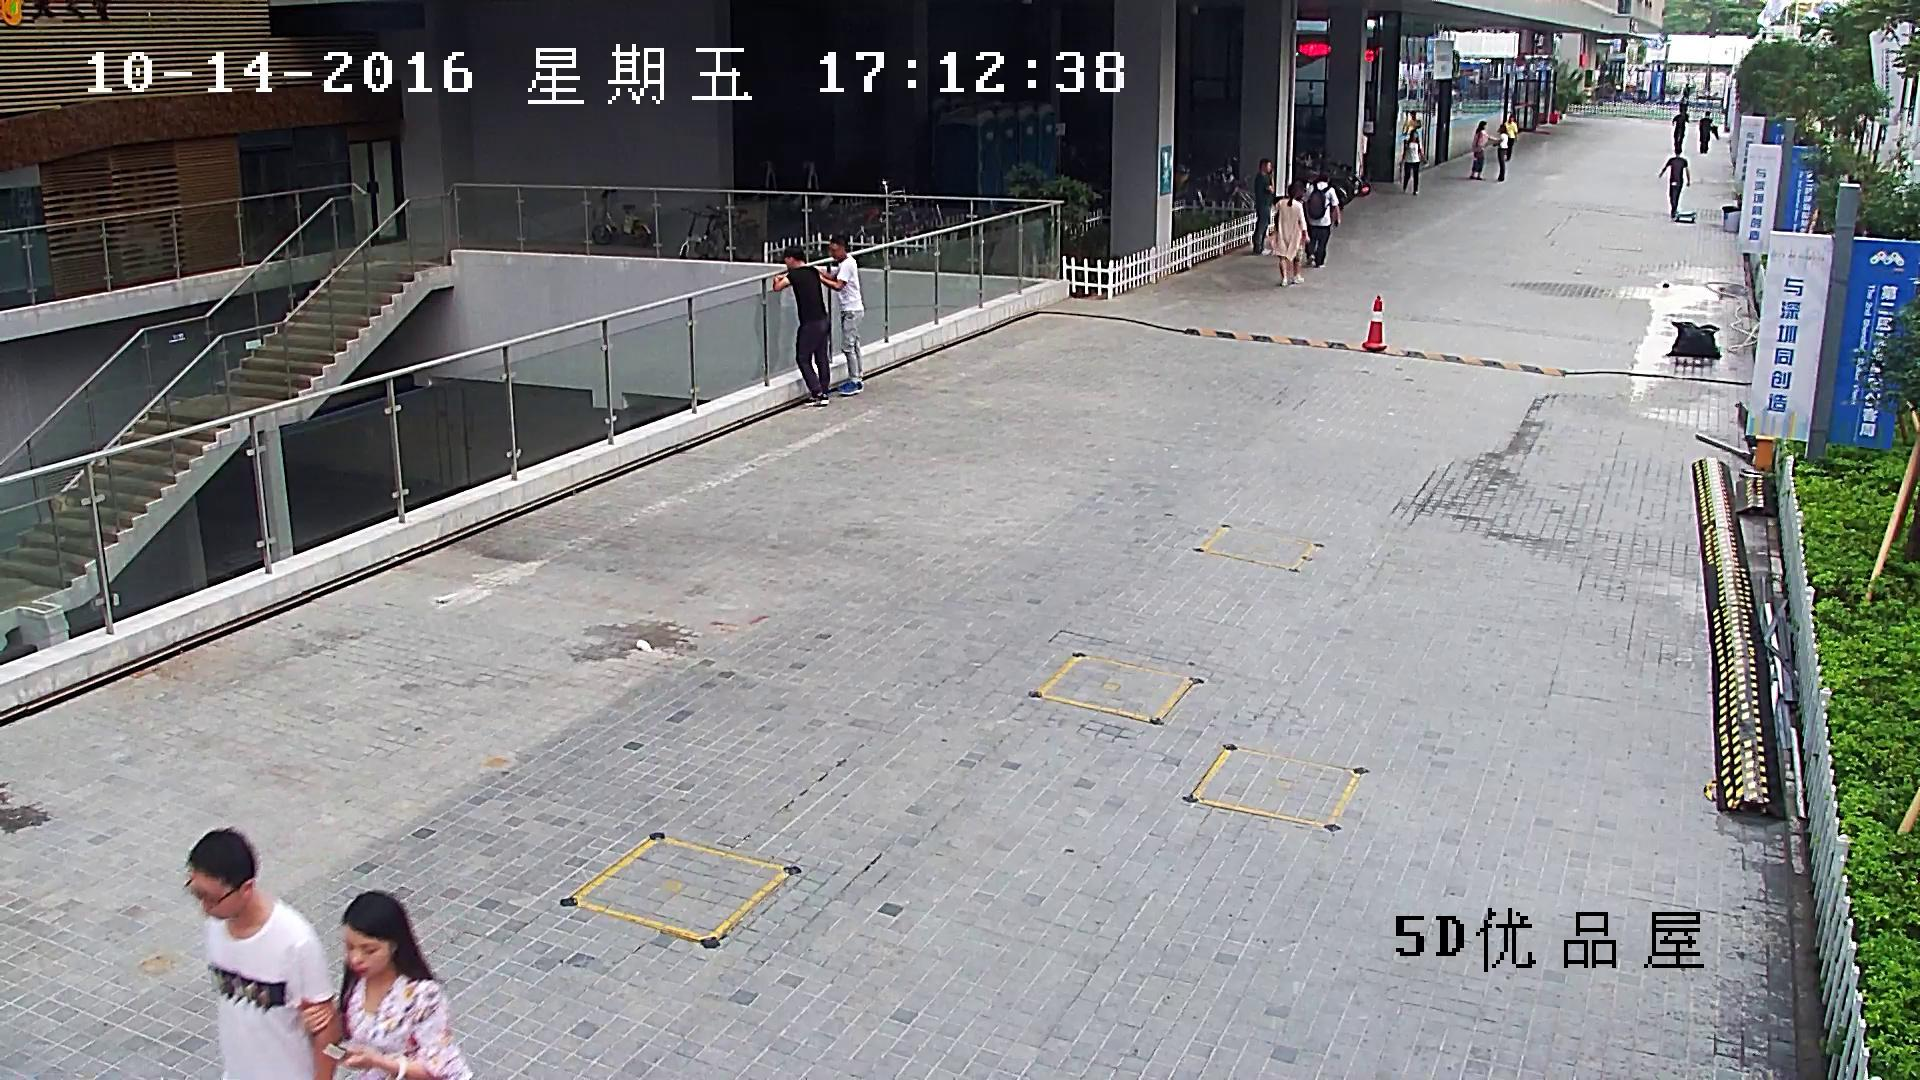person: (182, 826, 336, 1080), (302, 890, 471, 1079), (772, 246, 830, 404), (818, 235, 864, 395), (1274, 184, 1309, 285), (1306, 177, 1340, 267), (1658, 146, 1689, 218), (1251, 158, 1273, 256), (1400, 129, 1425, 194), (1468, 121, 1493, 179), (1403, 111, 1424, 161), (1493, 124, 1508, 181), (1672, 106, 1688, 146), (1504, 114, 1517, 161), (1699, 111, 1712, 153)
